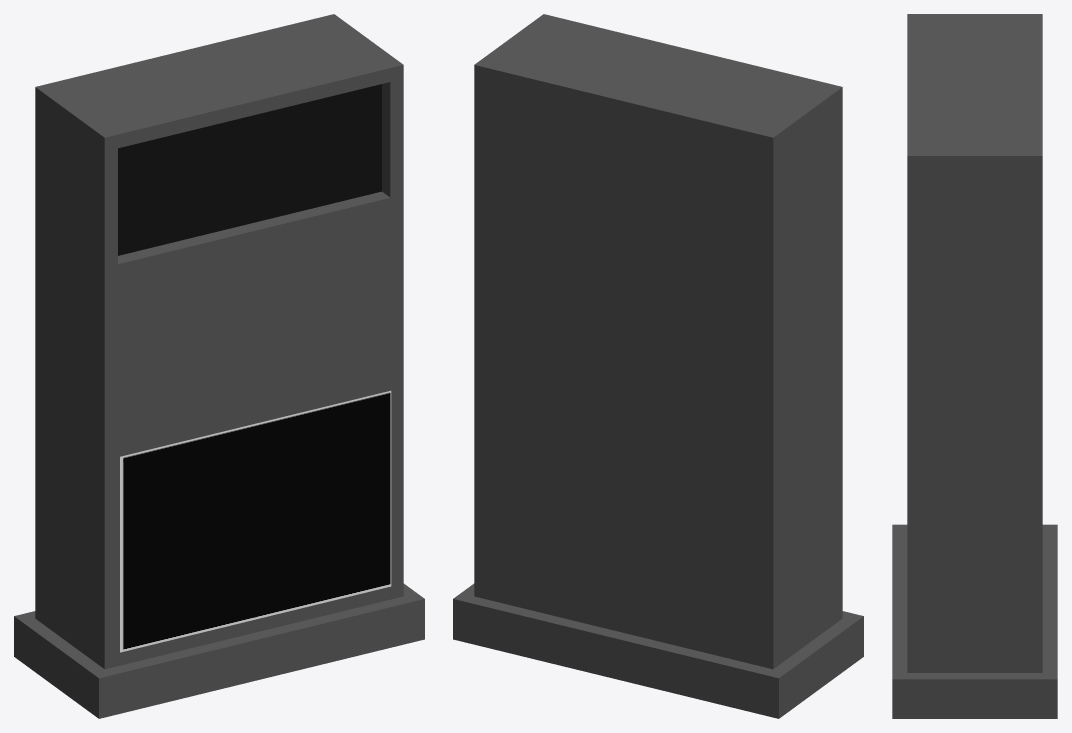
Rendered from Itr_Airconditioner1_Body_03.FBX.
The picture shows the model from 3 angles, left to right: view 1: azimuth 30°, elevation 25°; view 2: azimuth 150°, elevation 25°; view 3: azimuth 270°, elevation 25°; orthographic projection. The views are drawn at different scales.
Visible parts, largest first — view 1: Itr_Airconditioner1_Body_03; view 2: Itr_Airconditioner1_Body_03; view 3: Itr_Airconditioner1_Body_03.
Boxes of the visible parts, <box> form: Itr_Airconditioner1_Body_03: <box>14,14,424,718</box>; Itr_Airconditioner1_Body_03: <box>453,14,863,718</box>; Itr_Airconditioner1_Body_03: <box>892,14,1057,718</box>.
Bounding box in the file's own units: 48.49 × 81.38 × 21.9.
